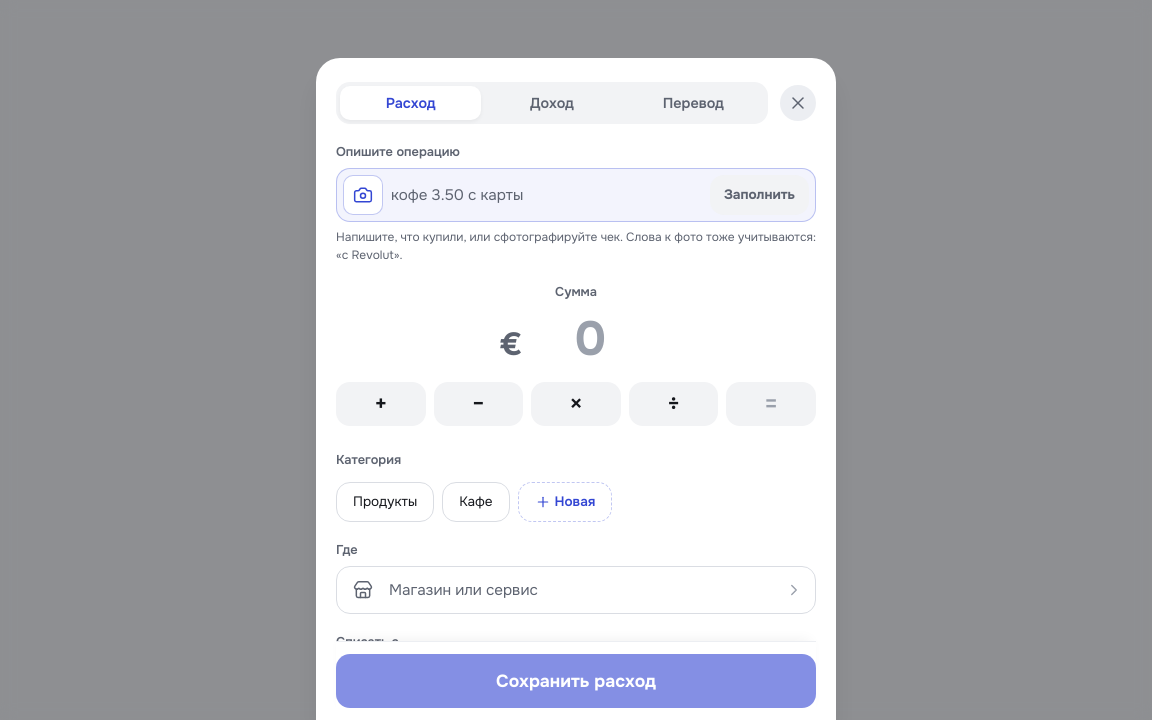
QuickEntry in the transaction form › fills the fields from the draft and saves exactly what is shown
Later steps or results of the test are not shown.
In the field labelled "Опишите операцию": (546, 195) [391,185,702,205], type "кофе 3.50 старбакс вчера с карты"
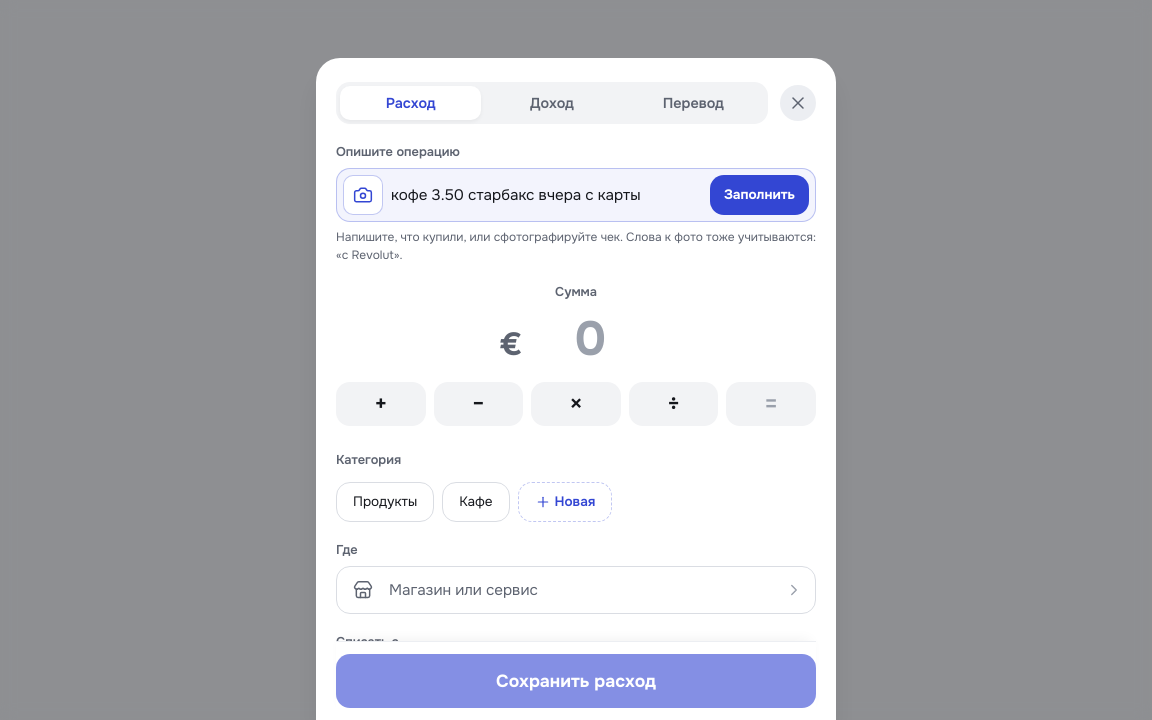
Click the button "Заполнить": (759, 195) [710,175,809,215]
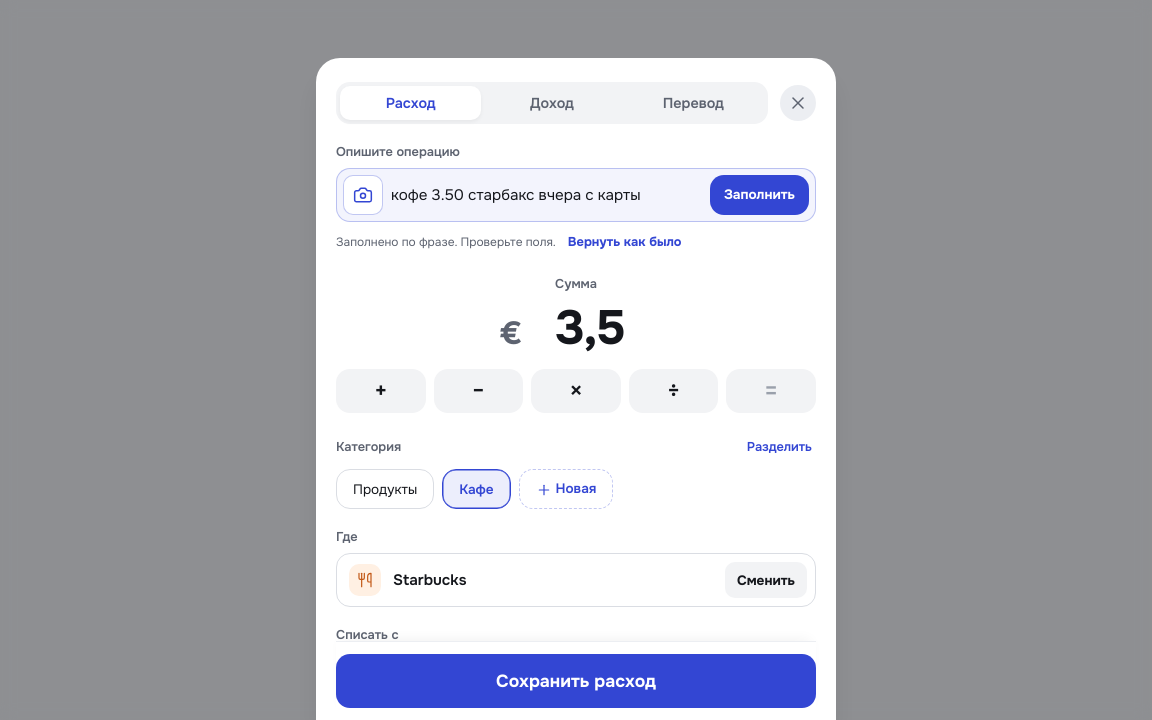
Expected: the text "Заполнено по фразе. Проверьте поля." is shown, [336,233,556,251]
Expected: the field with placeholder "0" holds "3,5", [526,300,653,357]
Expected: the button "Starbucks Сменить" is shown, [336,553,816,607]
